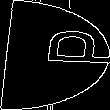P_W: (5, 35, 105, 75)
